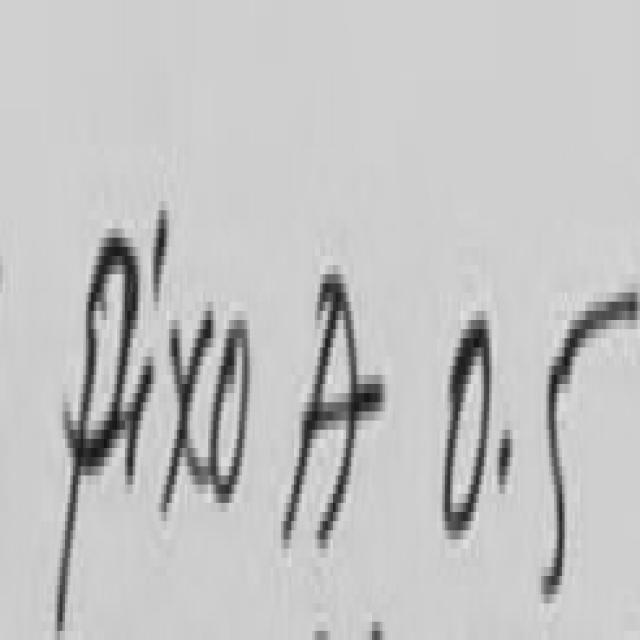0: (445, 320, 492, 530)
5: (544, 293, 639, 590)
A: (284, 274, 385, 549)
P: (57, 238, 138, 626)
i: (125, 366, 153, 485), (153, 210, 169, 297)
o: (211, 320, 250, 503)
x: (161, 311, 213, 507)
